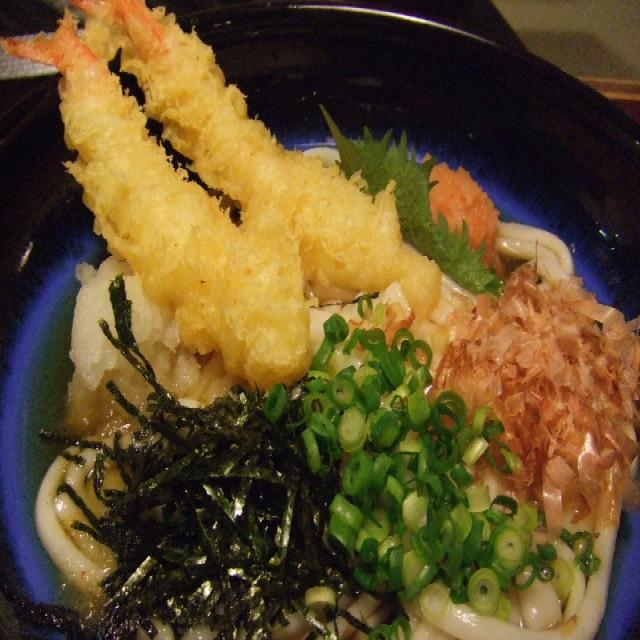面条主食: (20, 0, 628, 640)
